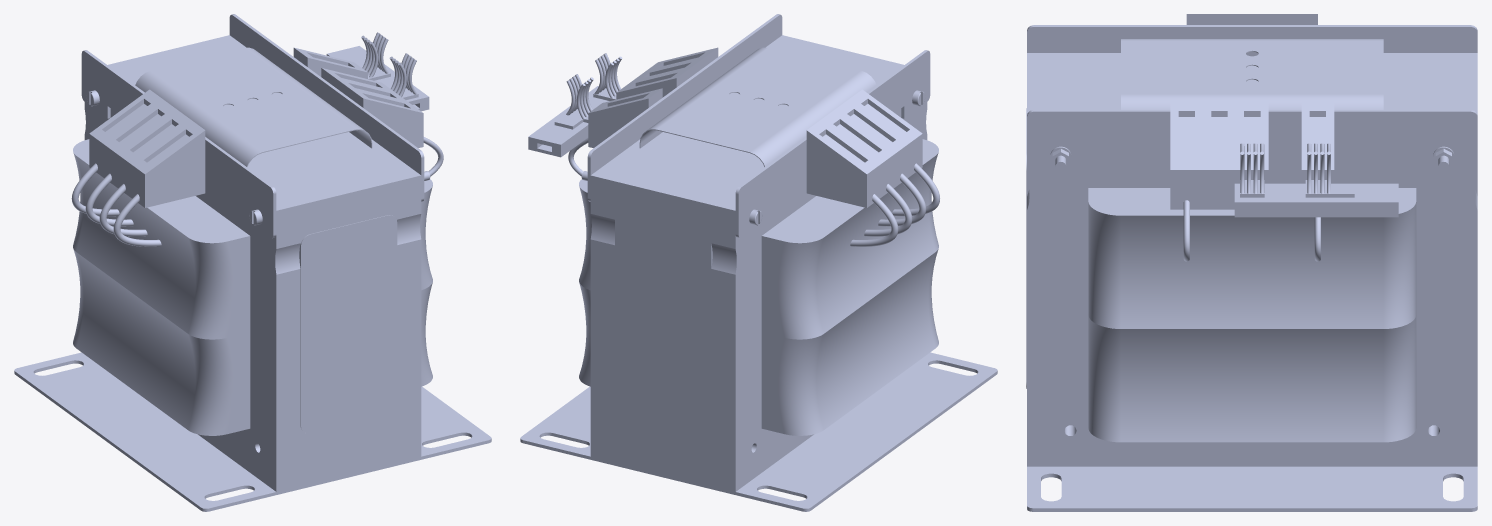
File: GP1500-A01CC.MQY.glb
The picture shows the model from 3 angles, left to right: view 1: azimuth 30°, elevation 25°; view 2: azimuth 150°, elevation 25°; view 3: azimuth 270°, elevation 25°; orthographic projection. The views are drawn at different scales.
Parts seen in each view (by area): view 1: Solid21, Solid11, Solid1, Solid12, Solid3, Solid14, Solid2, Solid26, Solid16, Solid15, Solid20, Solid23 (+9 smaller); view 2: Solid21, Solid11, Solid1, Solid12, Solid3, Solid16, Solid2, Solid26, Solid22, Solid14, Solid20, Solid15 (+9 smaller); view 3: Solid21, Solid26, Solid10, Solid1, Solid2, Solid3, Solid22, Solid13, Solid19, Solid23, Solid27.
Boxes of the visible parts, x1,y1,x2,y2 form: Solid21: (84, 35, 421, 491); Solid11: (73, 139, 250, 339); Solid1: (14, 352, 491, 511); Solid12: (73, 249, 250, 435); Solid3: (81, 50, 276, 238); Solid14: (131, 120, 205, 207); Solid2: (229, 14, 424, 201); Solid26: (293, 47, 443, 290); Solid16: (89, 89, 163, 177); Solid15: (103, 99, 177, 187); Solid20: (117, 110, 190, 197); Solid23: (354, 32, 390, 80); Solid21: (590, 35, 927, 491); Solid11: (761, 139, 938, 339); Solid1: (520, 352, 997, 511); Solid12: (761, 249, 938, 435); Solid3: (735, 50, 930, 238); Solid16: (806, 120, 880, 207); Solid2: (587, 14, 782, 201); Solid26: (568, 47, 718, 290); Solid22: (528, 86, 609, 157); Solid14: (848, 89, 922, 177); Solid20: (834, 99, 908, 187); Solid15: (821, 110, 894, 197); Solid21: (1026, 39, 1477, 466); Solid26: (1088, 100, 1416, 328); Solid10: (1088, 315, 1416, 442); Solid1: (1027, 466, 1477, 511); Solid2: (1027, 110, 1477, 171); Solid3: (1027, 25, 1477, 52); Solid22: (1234, 183, 1398, 217); Solid13: (1203, 100, 1235, 209); Solid19: (1236, 100, 1268, 183); Solid23: (1305, 143, 1354, 197); Solid27: (1240, 143, 1264, 197).
Size of the model in its own units: 0.1727 by 0.1588 by 0.1749.
